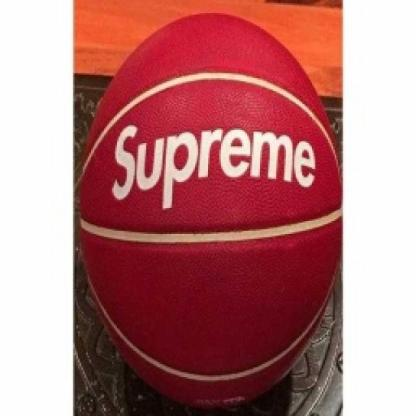basketball: (78, 9, 343, 412)
